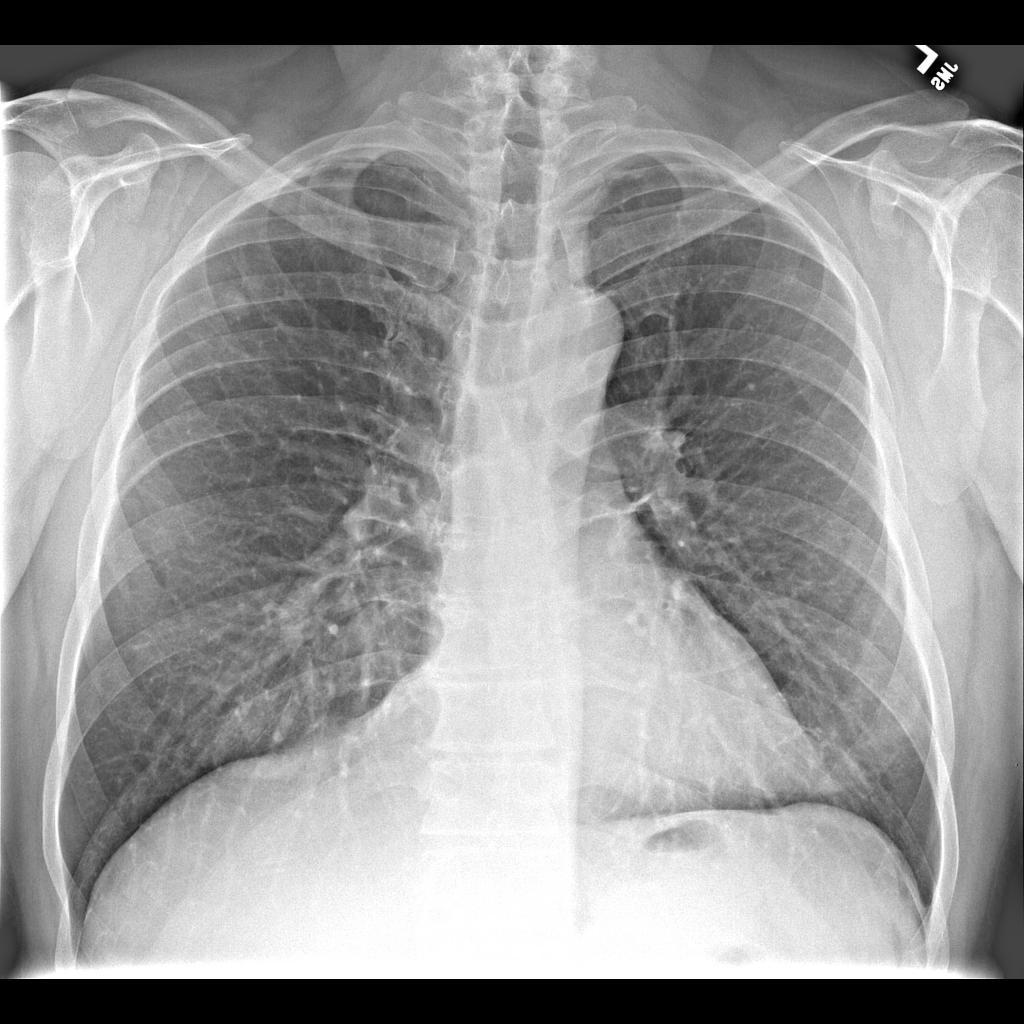Nodule: (217, 286, 259, 332)
